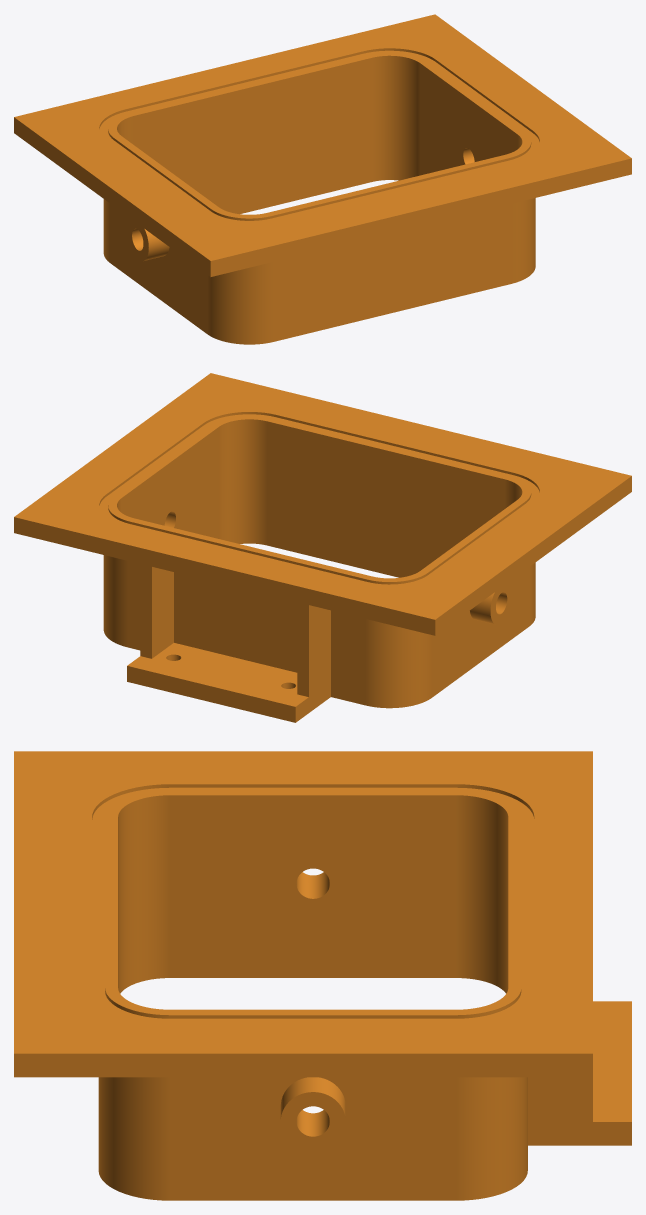
Rendered from boca_alvo.glb.
3 views of the same model, one above another, from view 1: azimuth 30°, elevation 25°; view 2: azimuth 150°, elevation 25°; view 3: azimuth 270°, elevation 25° (orthographic). The views are drawn at different scales.
Visible parts, largest first — view 1: boca_alvo; view 2: boca_alvo; view 3: boca_alvo.
Boxes of the visible parts, left/top/right/bottom form: boca_alvo: left=14, top=14, right=631, bottom=344; boca_alvo: left=14, top=373, right=631, bottom=722; boca_alvo: left=14, top=751, right=631, bottom=1200.
Size of the model in its own units: 110 by 31 by 95.
